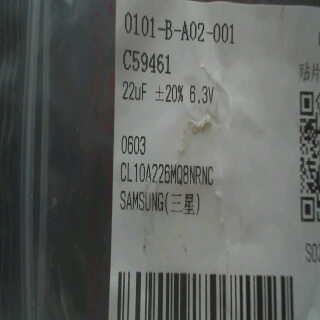22uF: (120, 77, 151, 109)
